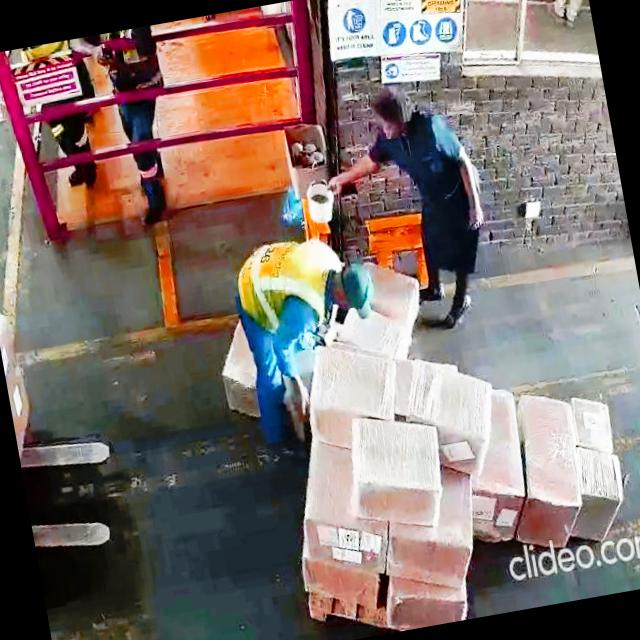Box: (343, 404, 457, 536), (508, 393, 584, 543), (296, 330, 400, 436), (404, 348, 496, 452), (298, 497, 388, 577), (384, 516, 473, 596), (570, 441, 628, 545), (298, 544, 382, 614), (386, 576, 466, 632), (565, 384, 621, 456)
